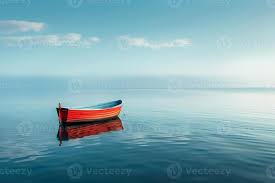boat: (55, 98, 124, 125)
